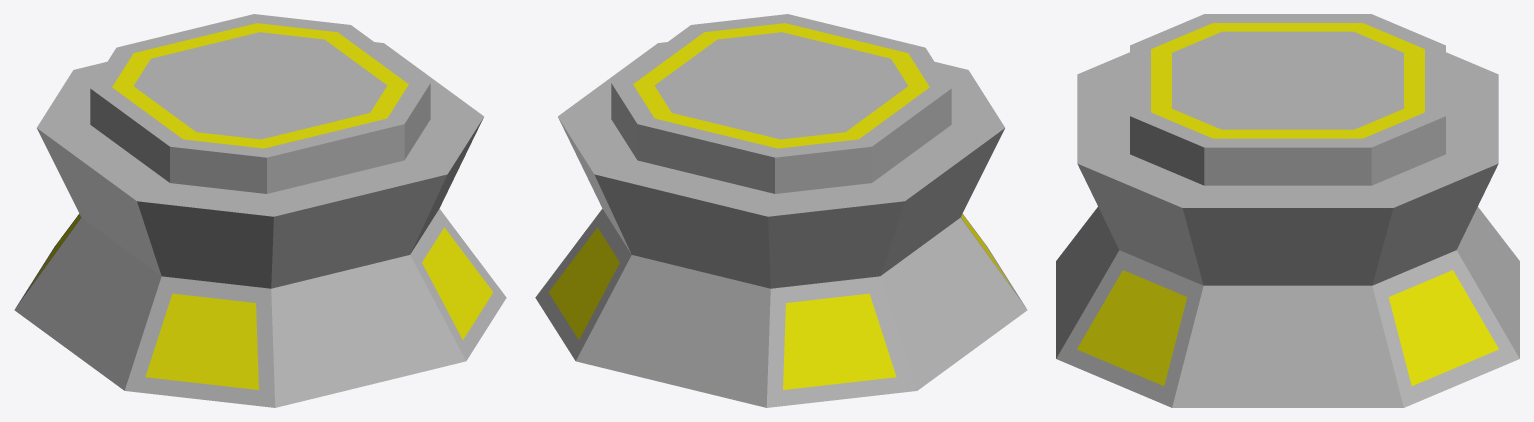
The model's file is Archer Tower.fbx.
3 views of the same model, side by side, from view 1: azimuth 30°, elevation 25°; view 2: azimuth 150°, elevation 25°; view 3: azimuth 270°, elevation 25° (orthographic). The views are drawn at different scales.
Parts seen in each view (by area): view 1: Torre Wizzard.021; view 2: Torre Wizzard.021; view 3: Torre Wizzard.021.
Boxes of the visible parts, left/top/right/bottom form: Torre Wizzard.021: left=14, top=14, right=506, bottom=407; Torre Wizzard.021: left=535, top=14, right=1027, bottom=407; Torre Wizzard.021: left=1056, top=14, right=1519, bottom=407.
Size of the model in its own units: 16.5 by 9 by 16.5.
